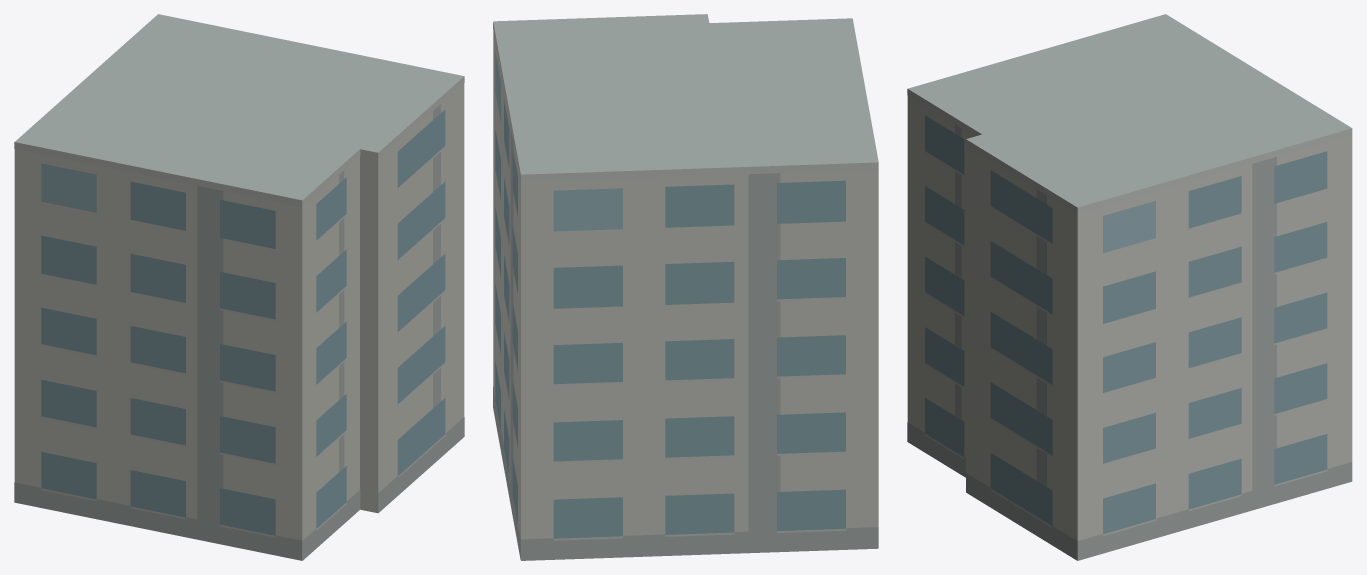
File: survey-upis-32801473.glb
The picture shows the model from 3 angles, left to right: view 1: azimuth 30°, elevation 25°; view 2: azimuth 150°, elevation 25°; view 3: azimuth 270°, elevation 25°; orthographic projection. The views are drawn at different scales.
Parts seen in each view (by area): view 1: survey-upis-32801473.tmp; view 2: survey-upis-32801473.tmp; view 3: survey-upis-32801473.tmp.
Part boxes in pixels (box(x1,y1,x2,y2)): survey-upis-32801473.tmp: box(14, 14, 464, 560); survey-upis-32801473.tmp: box(493, 14, 878, 560); survey-upis-32801473.tmp: box(907, 14, 1352, 560).
Size of the model in its own units: 15.05 by 12.8 by 14.62.
